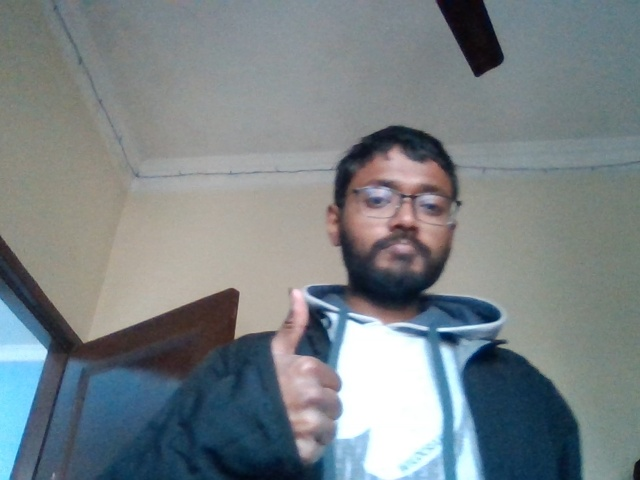good: (221, 287, 347, 452)
